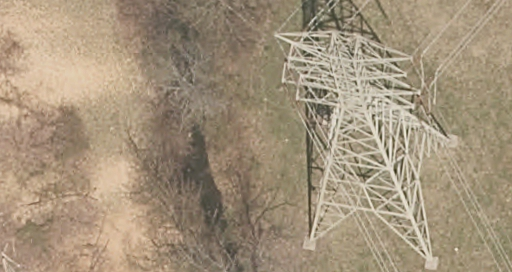TT: (272, 29, 460, 271)
